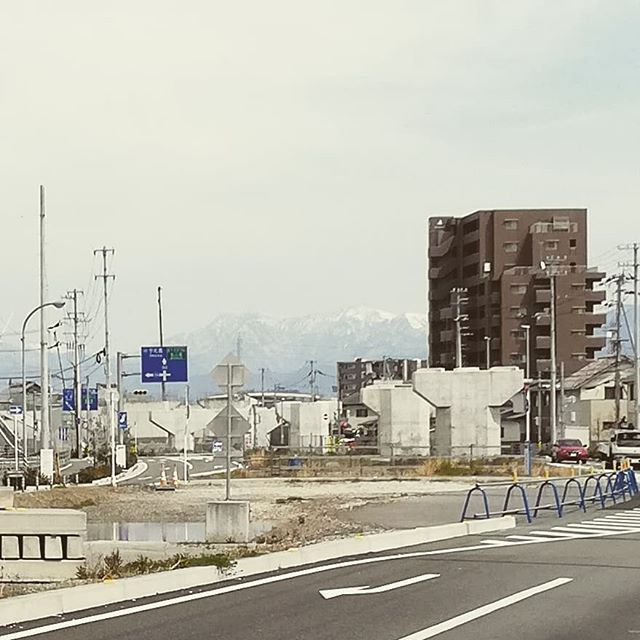building: (424, 207, 599, 389)
sky: (1, 1, 640, 210), (1, 206, 417, 300)
street: (47, 498, 634, 640)
